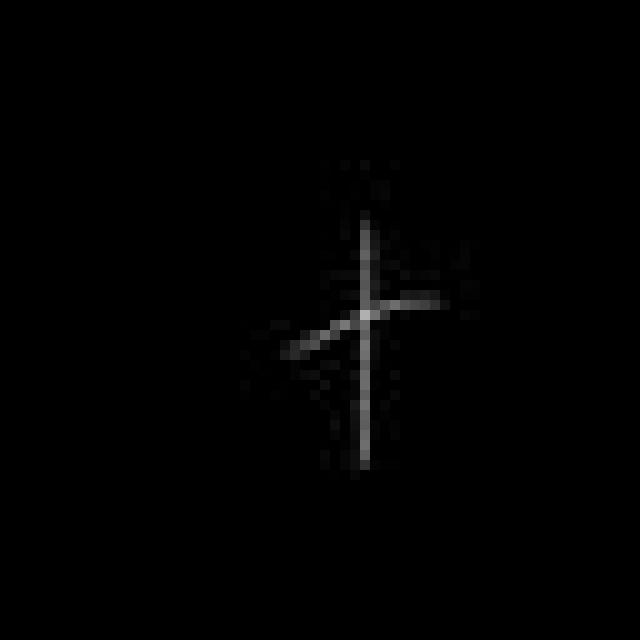10 -ten-: (278, 214, 441, 476)
